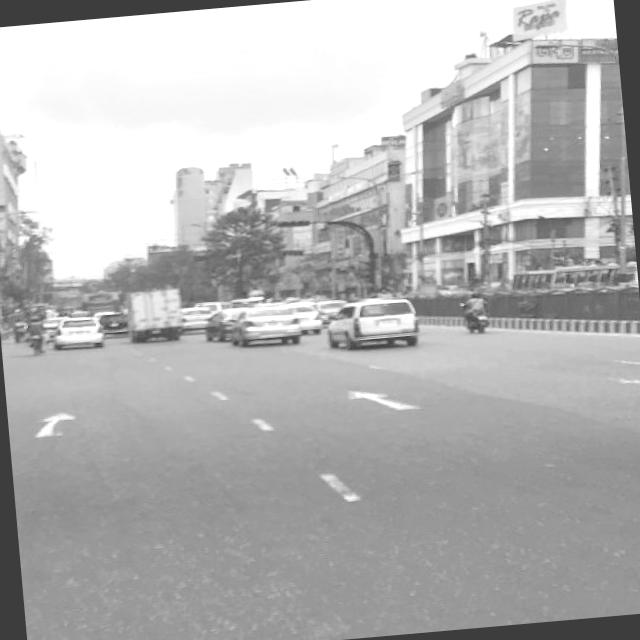bus: (546, 258, 634, 299), (508, 266, 556, 292), (80, 290, 120, 314)
car: (322, 296, 420, 354), (228, 303, 302, 349), (50, 314, 103, 350), (289, 300, 320, 336), (97, 309, 127, 334), (183, 304, 211, 330)
motorcycle: (456, 288, 492, 334)
truck: (122, 284, 184, 344)
